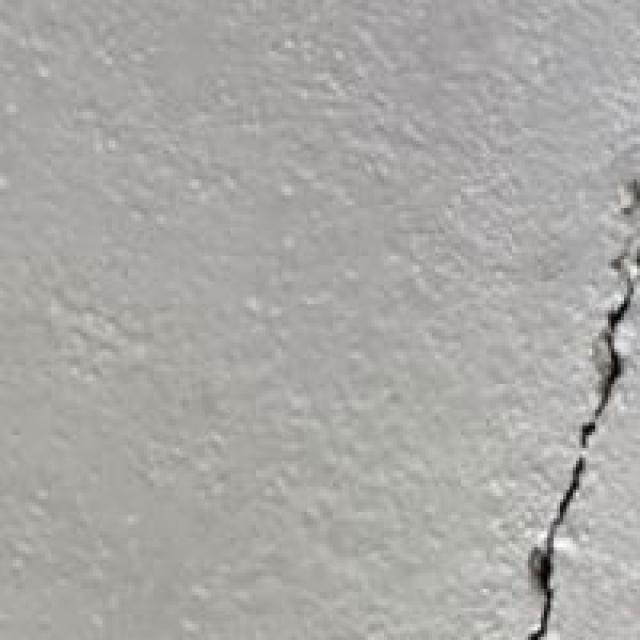crack: (502, 144, 640, 640)
